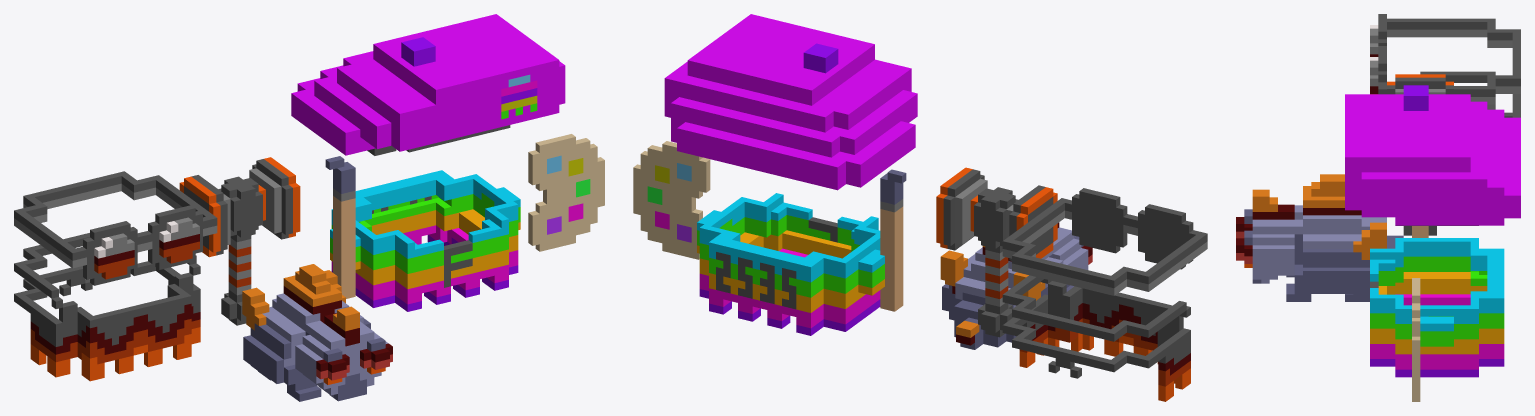
The model's file is 82- fake artist+ smithoor.fbx.
3 views of the same model, side by side, from view 1: azimuth 30°, elevation 25°; view 2: azimuth 150°, elevation 25°; view 3: azimuth 270°, elevation 25° (orthographic).
Parts seen in each view (by area): view 1: 363, 362, 361, 359, 358, 362.1, 360, 358.1, 365, 364, 361.1, 360.1 (+3 smaller); view 2: 363, 362, 359, 358, 362.1, 360, 365, 361, 358.1, 364, 360.1, 365.1 (+1 smaller); view 3: 363, 361, 362, 362.1, 359, 361.1, 365, 360, 358, Saleev_L, Saleev_L_1, 360.1.
Part boxes in pixels (x1,y1,x2,y2): 363: (291,14,565,155); 362: (331,193,518,304); 361: (242,264,388,401); 359: (14,171,217,285); 358: (14,233,200,346); 362.1: (331,170,518,311); 360: (184,159,292,325); 358.1: (30,303,200,381); 365: (528,134,604,251); 364: (325,156,355,298); 361.1: (283,286,392,384); 360.1: (179,157,300,287); 363: (664,14,917,190); 362: (699,215,880,328); 359: (1002,188,1207,295); 358: (1002,275,1190,378); 362.1: (699,193,880,335); 360: (943,169,1053,337); 365: (633,141,710,259); 361: (940,227,1088,349); 358.1: (1019,303,1190,401); 364: (880,169,906,311); 360.1: (936,167,1057,298); 365.1: (647,163,691,242); 363: (1345,85,1520,225); 361: (1244,174,1403,301); 362: (1370,256,1504,369); 362.1: (1370,238,1504,377); 359: (1370,14,1520,104); 361.1: (1236,204,1361,267); 365: (1412,278,1420,401); 360: (1387,77,1453,235); 358: (1420,71,1520,117); Saleev_L: (1420,331,1453,354); Saleev_L_1: (1420,316,1453,331); 360.1: (1387,74,1453,85).
Bounding box in the file's own units: 758 × 350 × 340.
Materials: 20 (19 with a texture image).
